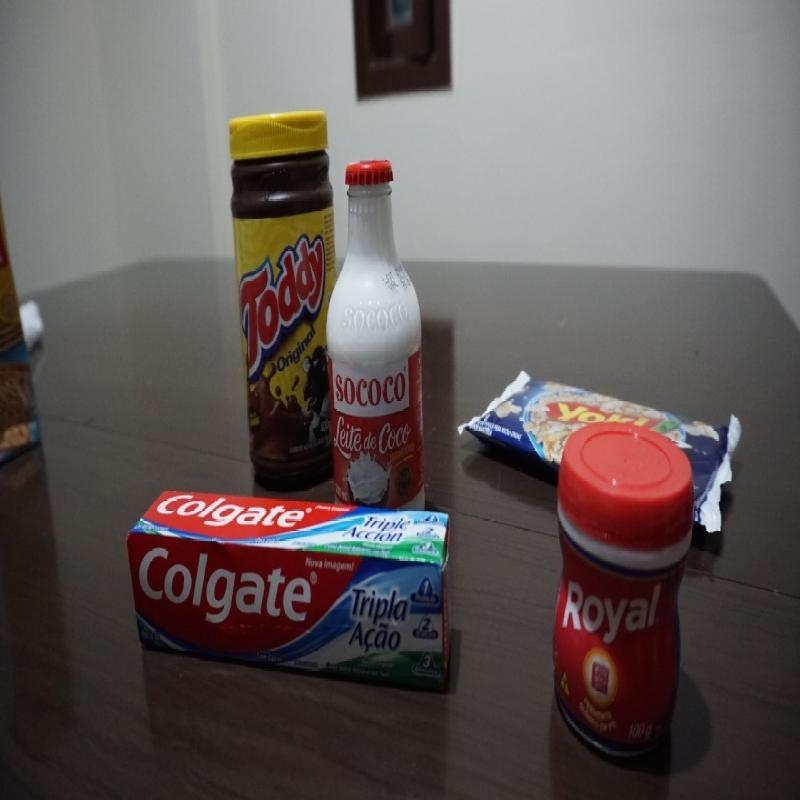Chocolate Powder: (225, 108, 340, 492)
Coconut Milk: (325, 159, 431, 507)
Cracker: (0, 194, 42, 471)
Popcorn: (454, 369, 744, 539)
Toothpaste: (127, 485, 453, 690)
Yeast: (548, 420, 693, 760)
